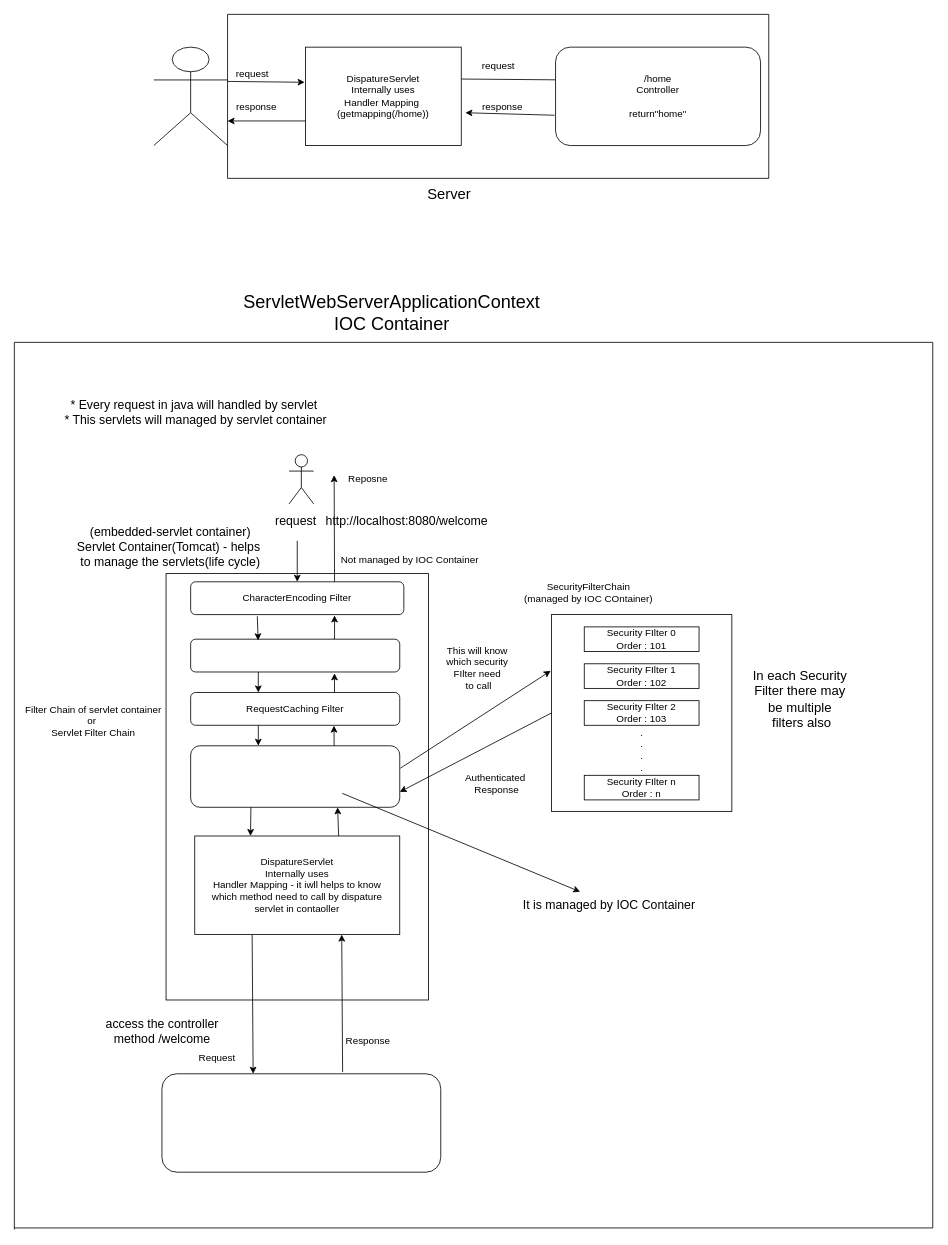
This 948x1245 diagram has some shape labels left out. Here are the shapes that lost their labels. From the top down, the centre of each, then its label:
(x=190, y=96): Client
(x=295, y=655): FormContent Filter
(x=295, y=776): DelegatingFilterProxy | FilterChainProxy
(x=301, y=1122): /welcome Controller return "welcome"
